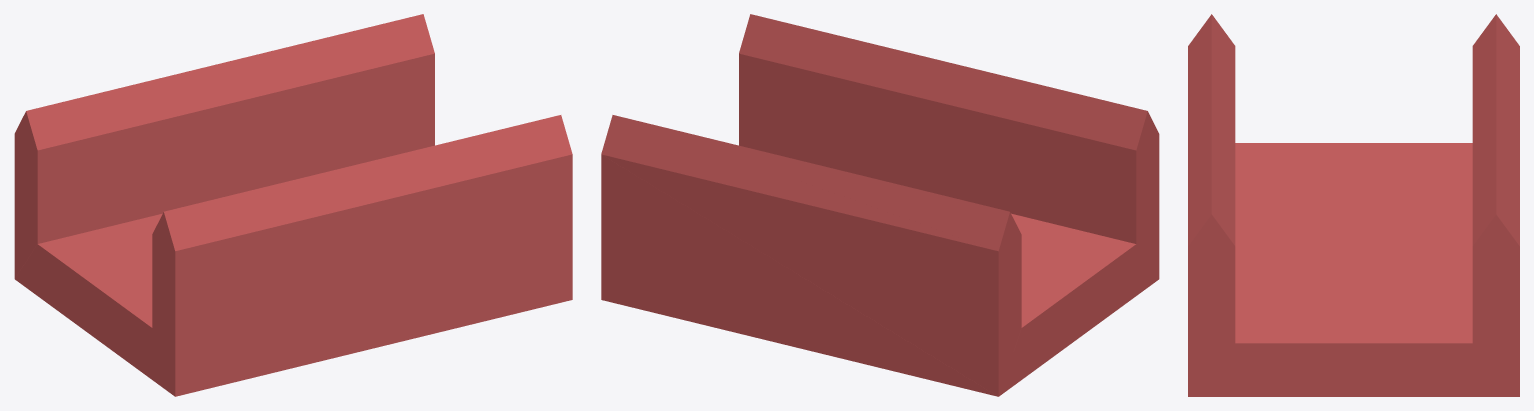
Rendered from sm_lift.glb.
3 views of the same model, side by side, from view 1: azimuth 30°, elevation 25°; view 2: azimuth 150°, elevation 25°; view 3: azimuth 270°, elevation 25° (orthographic). The views are drawn at different scales.
Parts seen in each view (by area): view 1: sm_lift_col; view 2: sm_lift_col; view 3: sm_lift_col.
Part boxes in pixels (left/top/right/bottom): sm_lift_col: left=14, top=14, right=572, bottom=396; sm_lift_col: left=601, top=14, right=1159, bottom=396; sm_lift_col: left=1188, top=14, right=1519, bottom=396.
Size of the model in its own units: 0.4005 by 0.1701 by 0.28.
